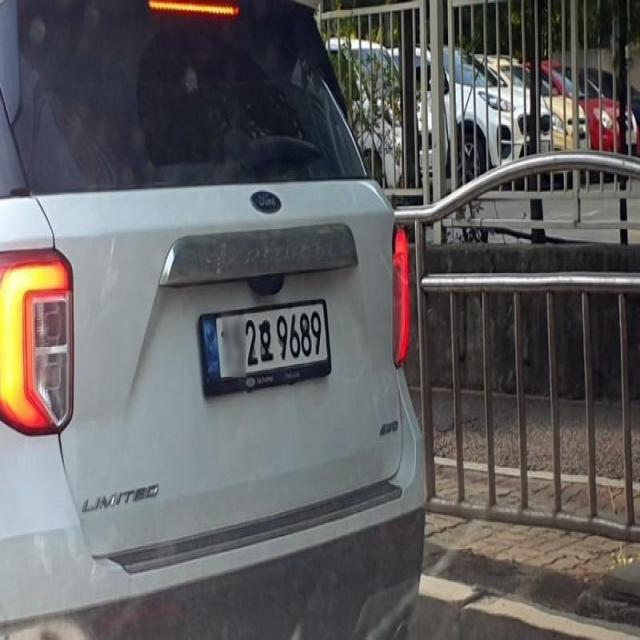car: (0, 0, 432, 640)
illegal_plate: (200, 298, 334, 398)
